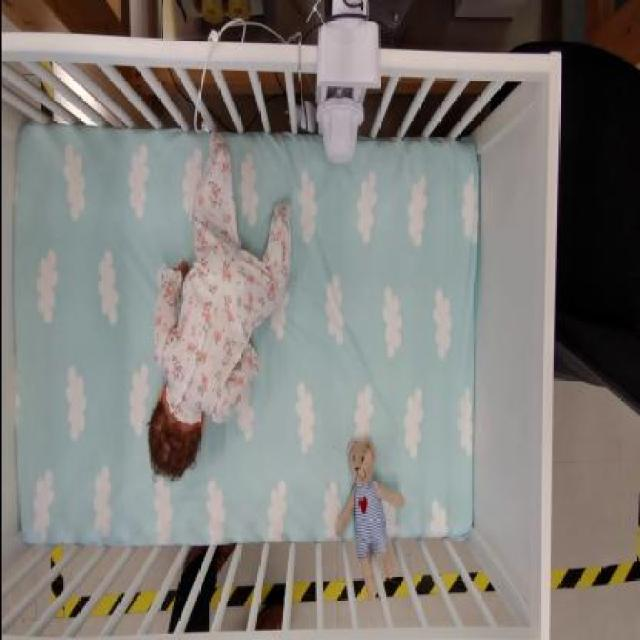baby: (148, 128, 294, 482)
